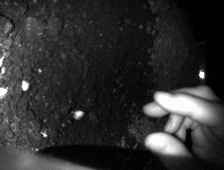corn: (70, 108, 88, 121), (19, 76, 32, 93)
